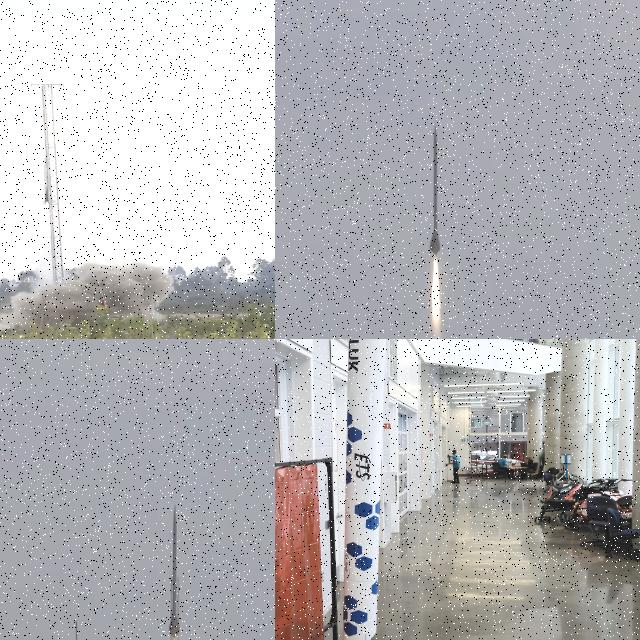Rocket: (343, 339, 386, 640), (168, 503, 180, 640), (430, 120, 440, 256), (42, 154, 51, 206)
